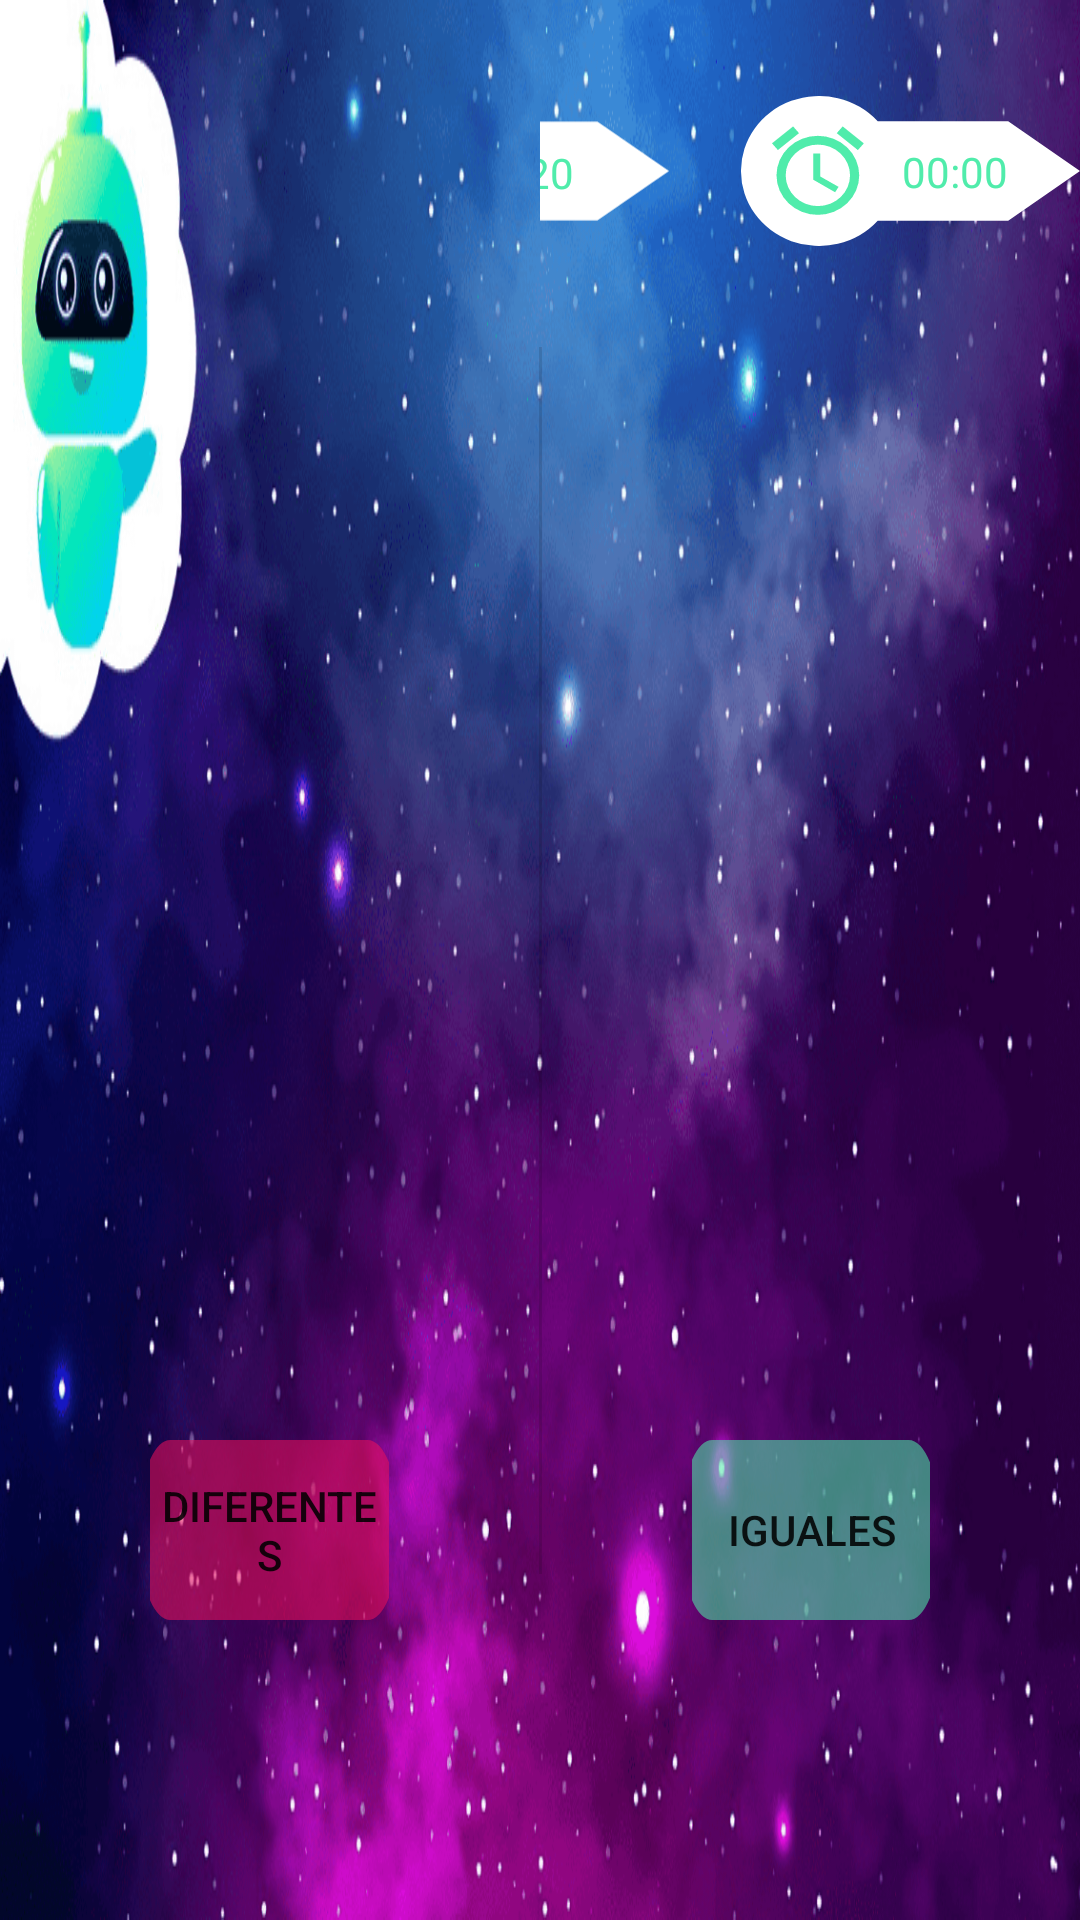

Screen size 1080px x 1920px. Icon name, then its center in pixels as (x,y):
Tiempo de la prueba: (910,171)
